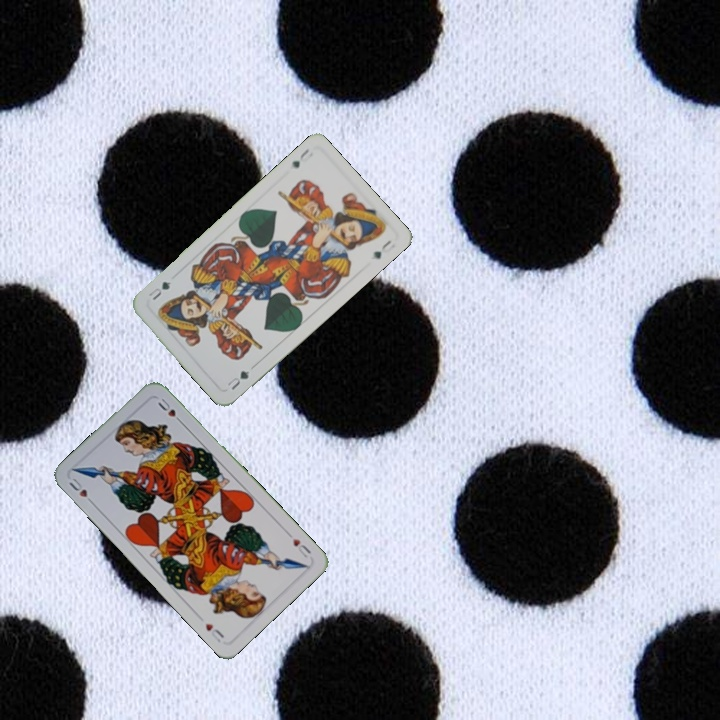GU: (223, 366, 252, 393), (287, 144, 312, 171)
HU: (65, 474, 97, 508), (283, 528, 314, 560)
